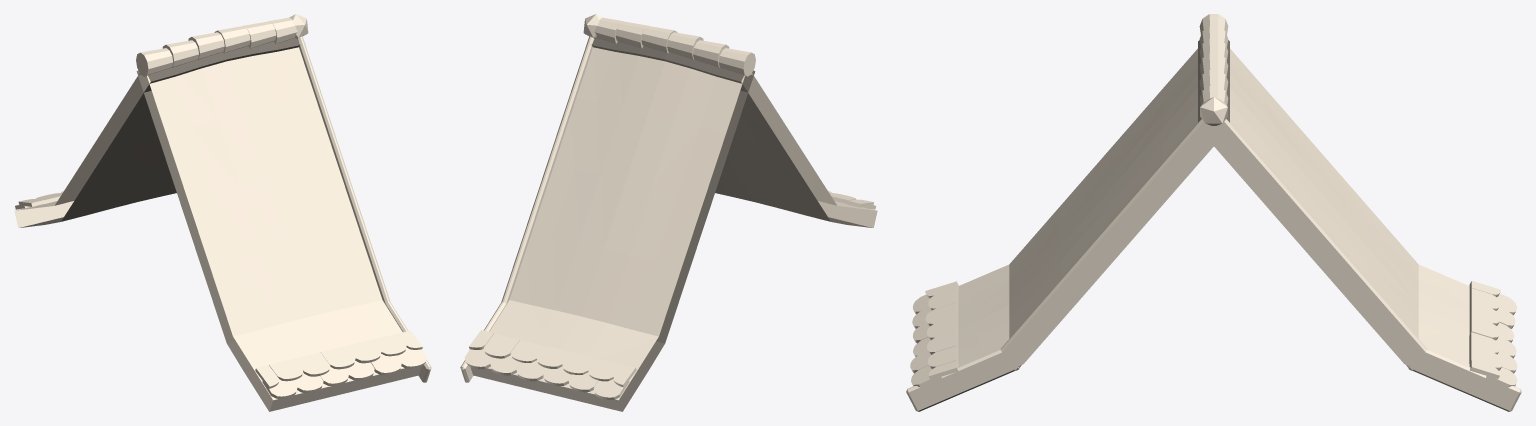
Rendered from SM_VK_Roof_Mid_CapR.fbx.
3 renders of one model, left to right at view 1: azimuth 30°, elevation 25°; view 2: azimuth 150°, elevation 25°; view 3: azimuth 270°, elevation 25°, orthographic. The views are drawn at different scales.
Visible parts, largest first — view 1: SM_VK_Roof_Mid_CapR.001; view 2: SM_VK_Roof_Mid_CapR.001; view 3: SM_VK_Roof_Mid_CapR.001.
Part boxes in pixels (<box>): SM_VK_Roof_Mid_CapR.001: <box>14,14,431,411</box>; SM_VK_Roof_Mid_CapR.001: <box>460,14,877,411</box>; SM_VK_Roof_Mid_CapR.001: <box>906,14,1521,411</box>.
Bounding box in the file's own units: 3.19 × 5.1 × 9.02.
